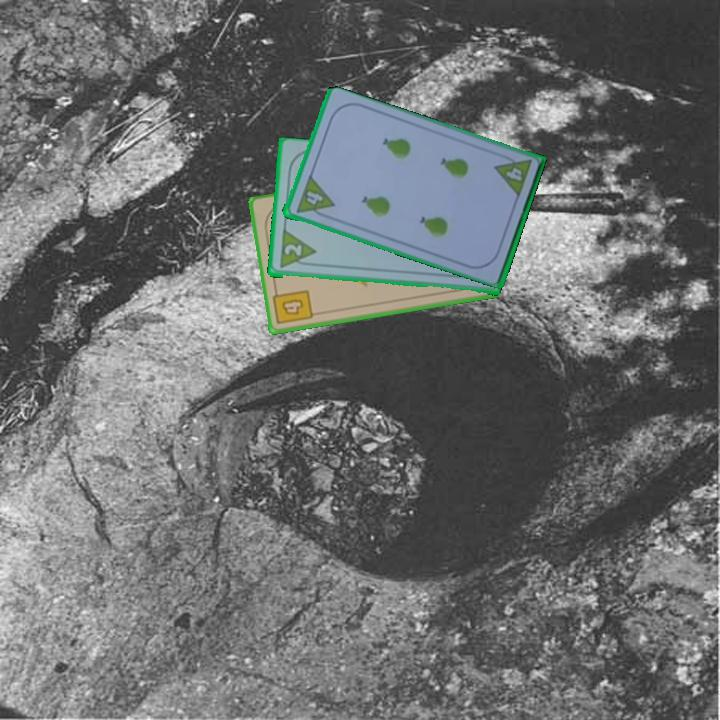2p: (280, 241, 305, 259)
4b: (270, 284, 316, 327)
4p: (490, 150, 534, 200), (292, 173, 336, 222)
